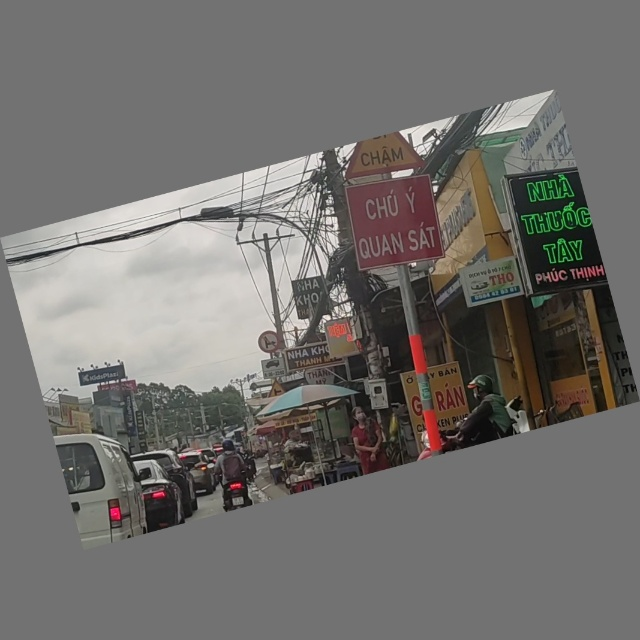P.139: (253, 327, 285, 358)
S.505a*Xe tai: (259, 356, 288, 381)
W.205b: (264, 377, 292, 401)
W.245a: (335, 126, 430, 185)
